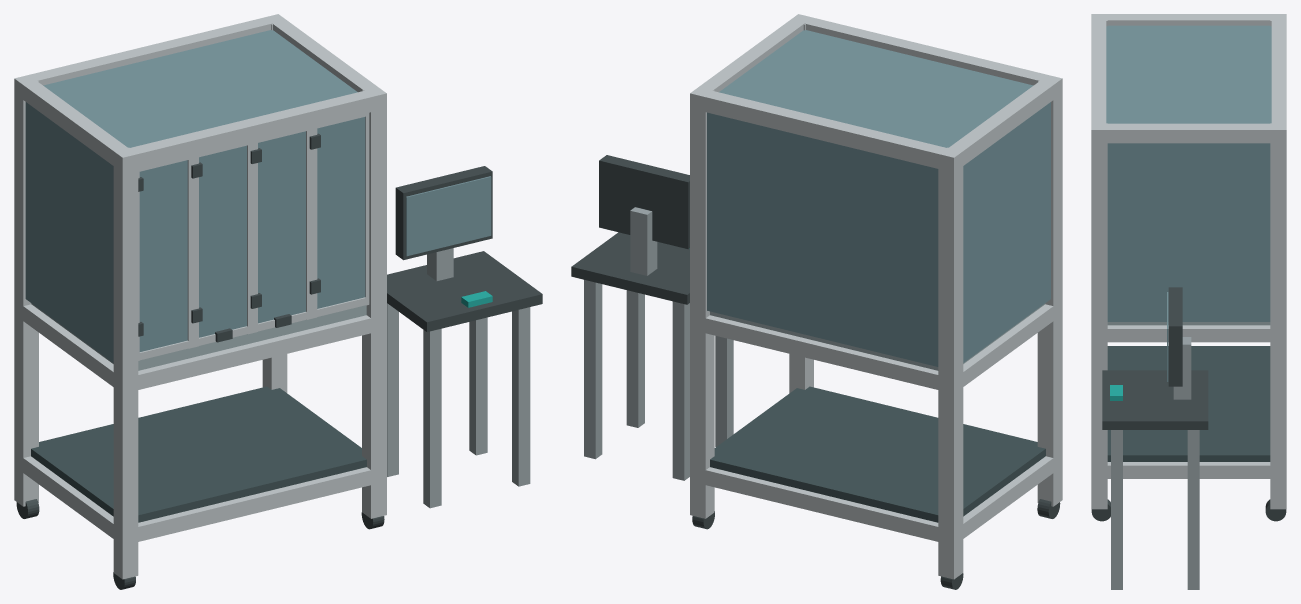
Rendered from minimill-gx-static.glb.
3 renders of one model, left to right at view 1: azimuth 30°, elevation 25°; view 2: azimuth 150°, elevation 25°; view 3: azimuth 270°, elevation 25°, orthographic. The views are drawn at different scales.
Visible parts, largest first — view 1: dark_base_shelf, closed_top_panel, closed_opaque_side_panel, fixed_full_height_upright, fixed_opaque_front_leaf.003, fixed_opaque_front_leaf, fixed_opaque_front_leaf.001, fixed_opaque_front_leaf.002, fixed_full_height_upright.002, detached_circle_display_stand, fixed_full_height_upright.001, outer_x_extrusion.004 (+23 smaller); view 2: closed_opaque_rear_panel, dark_base_shelf, closed_top_panel, closed_opaque_side_panel, fixed_full_height_upright.001, fixed_full_height_upright.003, fixed_full_height_upright, generic_teaching_screen, outer_x_extrusion.005, outer_x_extrusion.001, outer_x_extrusion.003, detached_circle_display_stand (+12 smaller); view 3: closed_opaque_side_panel.001, closed_top_panel, dark_base_shelf, fixed_full_height_upright.003, fixed_full_height_upright.002, detached_circle_display_stand, outer_y_extrusion.005, outer_y_extrusion.003, outer_y_extrusion.001, outer_y_extrusion.004, detached_stand_leg.003, detached_stand_leg.002 (+6 smaller).
Boxes of the visible parts, x1,y1,x2,y2 form: dark_base_shelf: (31,386,366,522); closed_top_panel: (43,30,357,147); closed_opaque_side_panel: (25,102,113,362); fixed_full_height_upright: (113,147,138,579); fixed_opaque_front_leaf.003: (317,117,365,308); fixed_opaque_front_leaf: (139,160,187,351); fixed_opaque_front_leaf.001: (199,145,246,337); fixed_opaque_front_leaf.002: (258,131,305,323); fixed_full_height_upright.002: (362,90,386,518); detached_circle_display_stand: (387,251,542,331); fixed_full_height_upright.001: (14,79,38,506); outer_x_extrusion.004: (114,87,386,171); closed_opaque_rear_panel: (707,112,938,366); dark_base_shelf: (710,386,1045,522); closed_top_panel: (719,30,1033,147); closed_opaque_side_panel: (963,102,1050,362); fixed_full_height_upright.001: (938,147,963,579); fixed_full_height_upright.003: (690,90,714,518); fixed_full_height_upright: (1037,79,1062,506); generic_teaching_screen: (599,155,689,249); outer_x_extrusion.005: (690,87,961,172); outer_x_extrusion.001: (690,466,955,545); outer_x_extrusion.003: (690,314,954,393); detached_circle_display_stand: (571,232,689,304); closed_opaque_side_panel.001: (1107,143,1270,321); closed_top_panel: (1106,25,1271,123); dark_base_shelf: (1107,346,1270,461); fixed_full_height_upright.003: (1270,123,1286,509); fixed_full_height_upright.002: (1091,123,1107,509); detached_circle_display_stand: (1102,370,1208,429); outer_y_extrusion.005: (1091,123,1286,143); outer_y_extrusion.003: (1107,325,1270,342); outer_y_extrusion.001: (1107,462,1270,478); outer_y_extrusion.004: (1091,14,1286,25); detached_stand_leg.003: (1187,430,1199,589); detached_stand_leg.002: (1111,430,1122,589).
Size of the model in its own units: 1.84 by 1.8 by 0.8128.
